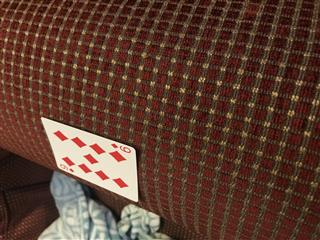NineOfDiamonds: (39, 115, 139, 203)
